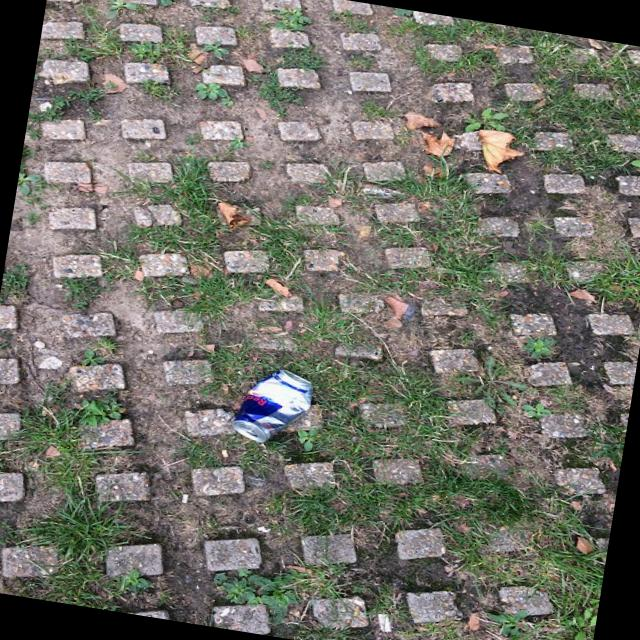Trash: (230, 354, 326, 469)
